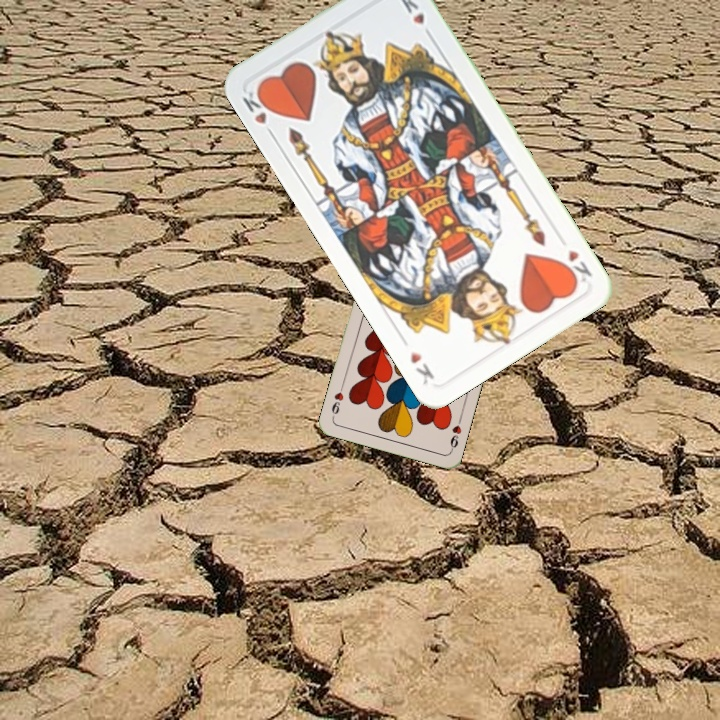H9: (446, 414, 464, 453)
HK: (238, 82, 278, 141), (558, 245, 595, 290)
